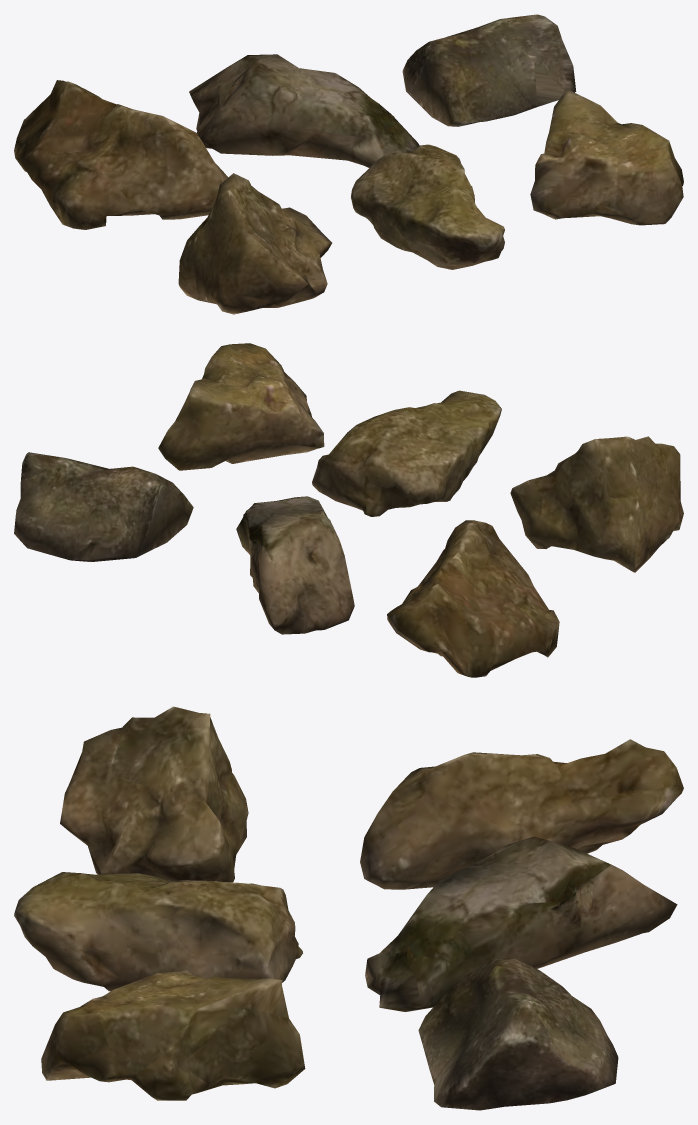
Rendered from scene-rock.glb.
The picture shows the model from 3 angles, top to bottom: view 1: azimuth 30°, elevation 25°; view 2: azimuth 150°, elevation 25°; view 3: azimuth 270°, elevation 25°; orthographic projection. The views are drawn at different scales.
Parts seen in each view (by area): view 1: rock_moss_set_01_rock01; view 2: rock_moss_set_01_rock01; view 3: rock_moss_set_01_rock01.
Part boxes in pixels (x1,y1,x2,y2): rock_moss_set_01_rock01: [14, 14, 683, 314]; rock_moss_set_01_rock01: [14, 343, 683, 677]; rock_moss_set_01_rock01: [14, 706, 683, 1110].
Bounding box in the file's own units: 8 × 1.76 × 6.94.
Materials: 1 (1 with a texture image).
